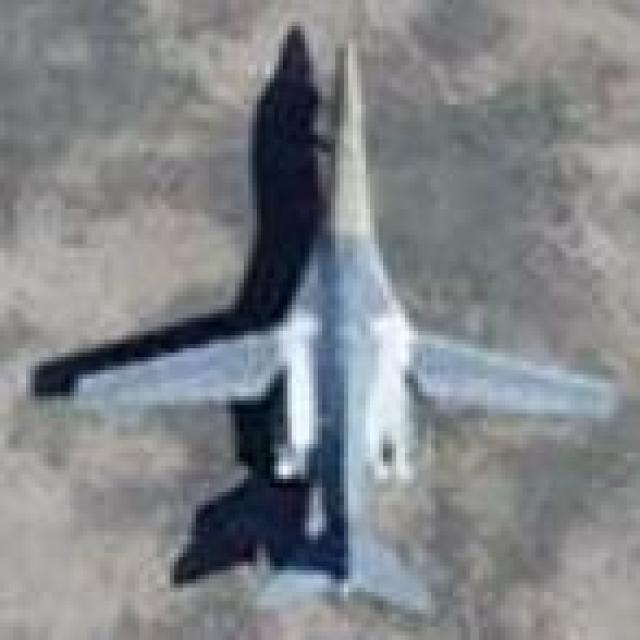B-1_TopDown: (26, 18, 618, 622)
